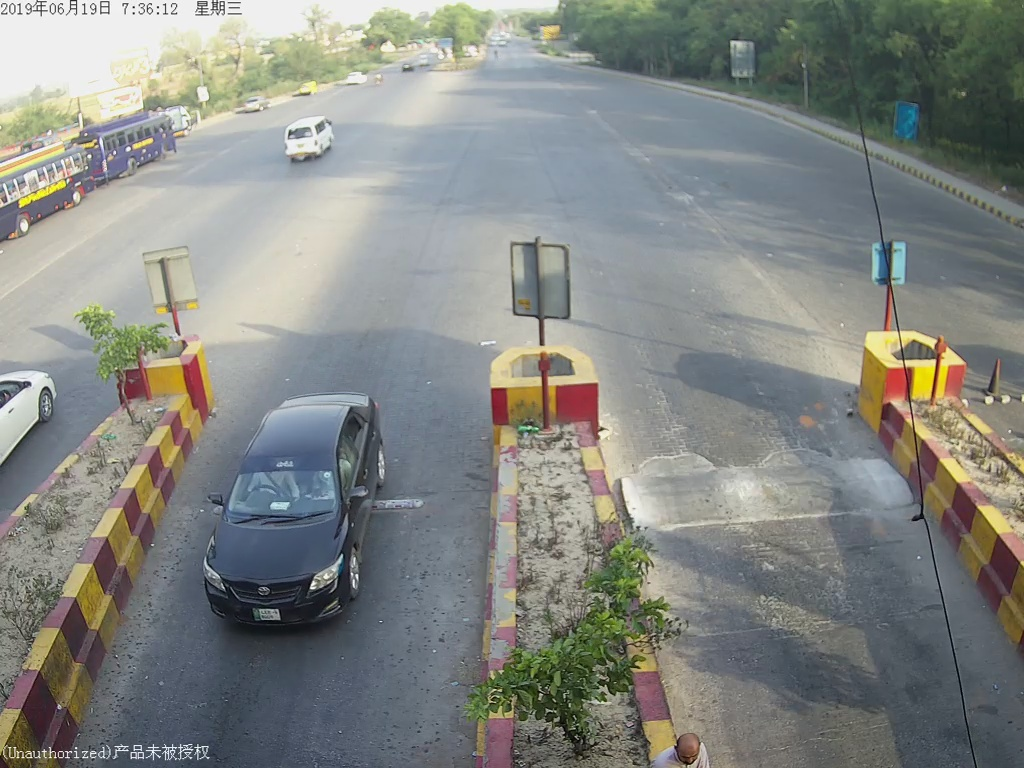Cat-1: (200, 408, 397, 620)
